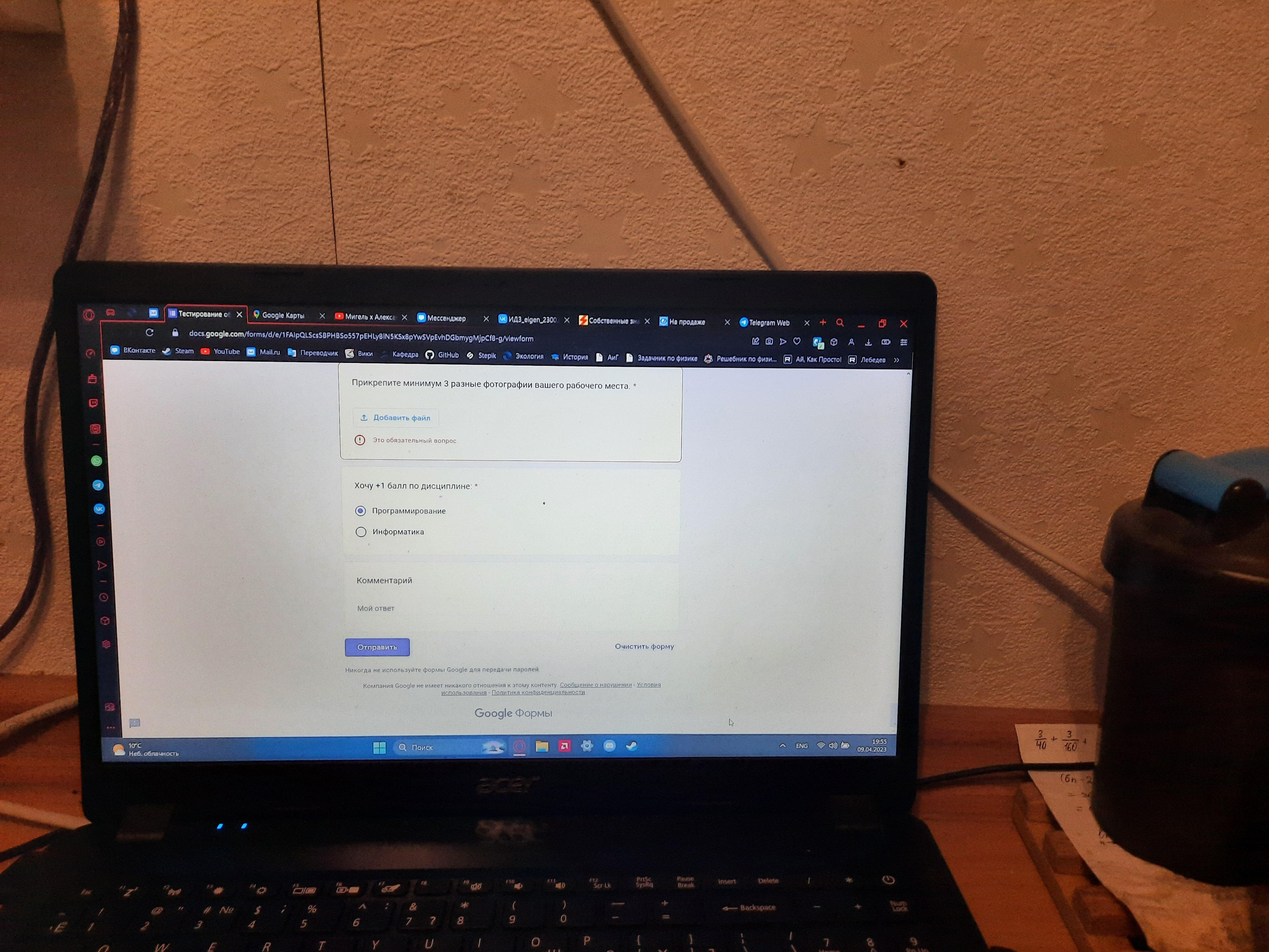monitor: (49, 255, 941, 806)
